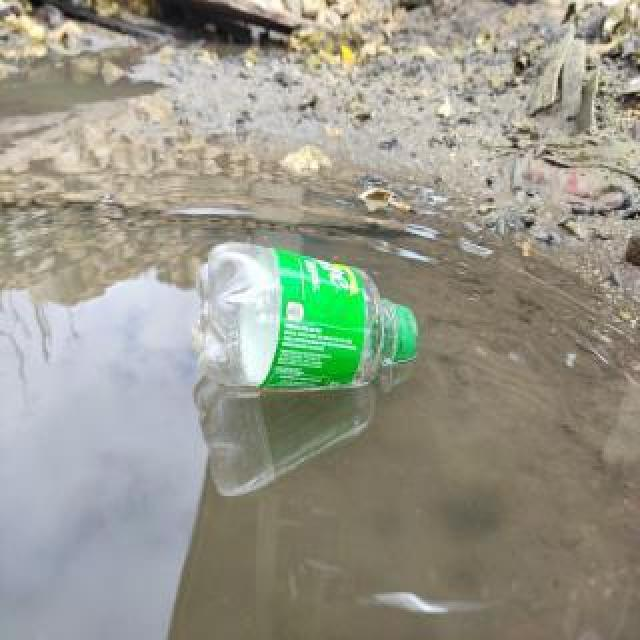bottle: (190, 236, 422, 396)
